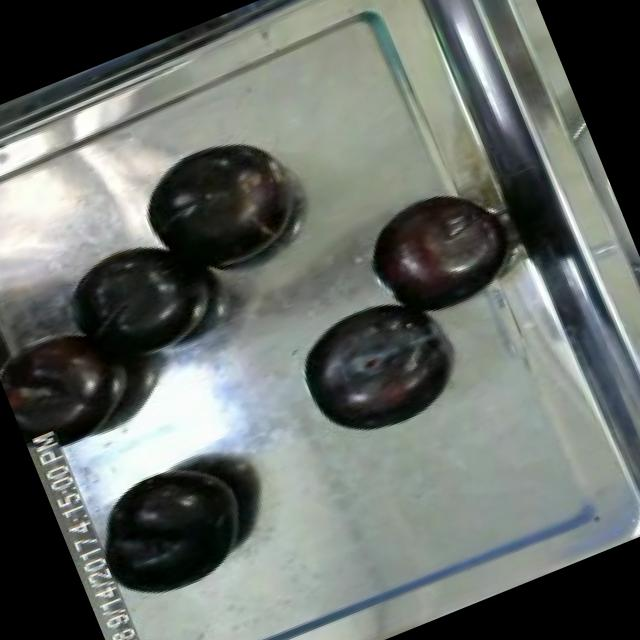Fruit: (76, 439, 271, 617), (120, 121, 314, 296), (282, 282, 468, 456), (45, 215, 234, 384), (346, 174, 524, 336)
